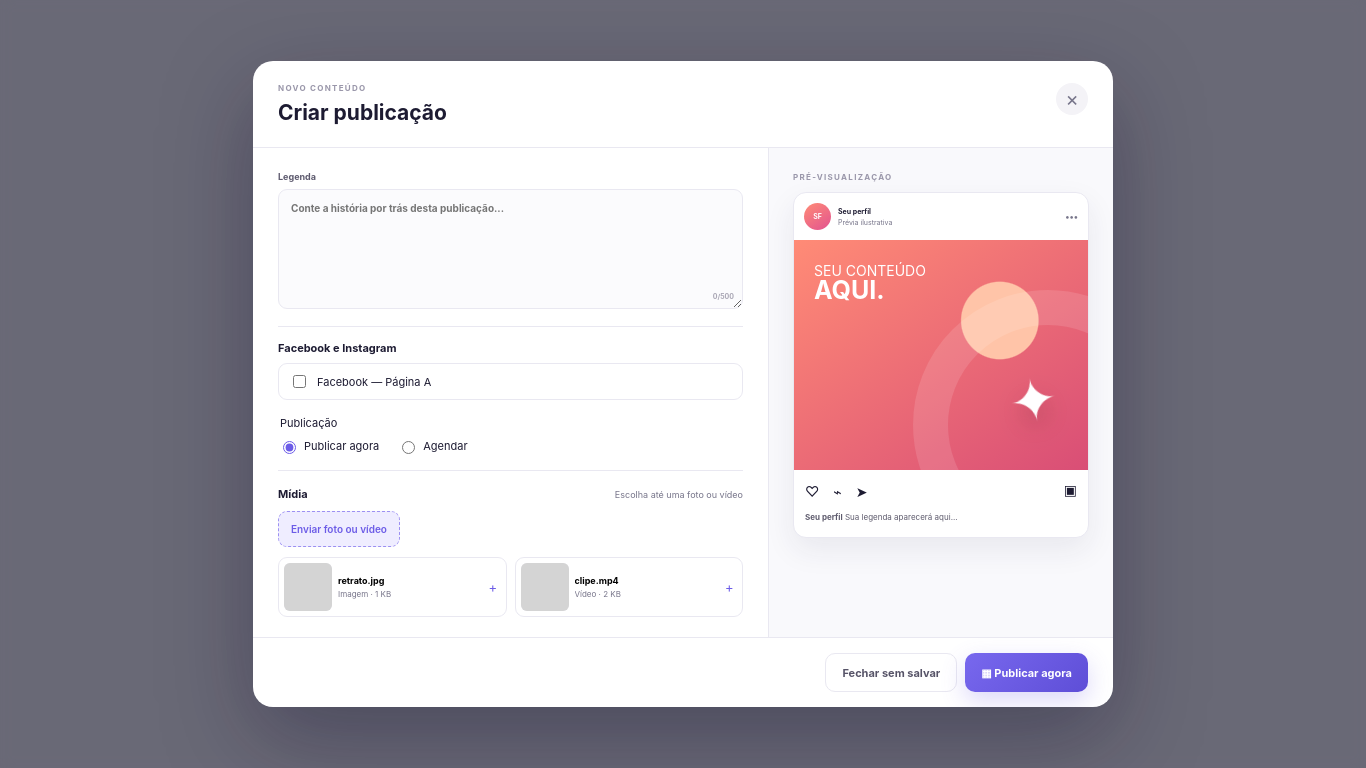
Test case: Composer com mídia › prévia usa mídia real e remover seleção restaura placeholder
Click the button named "selecionar retrato.jpg" at x=392, y=587, box [278,557,506,617]
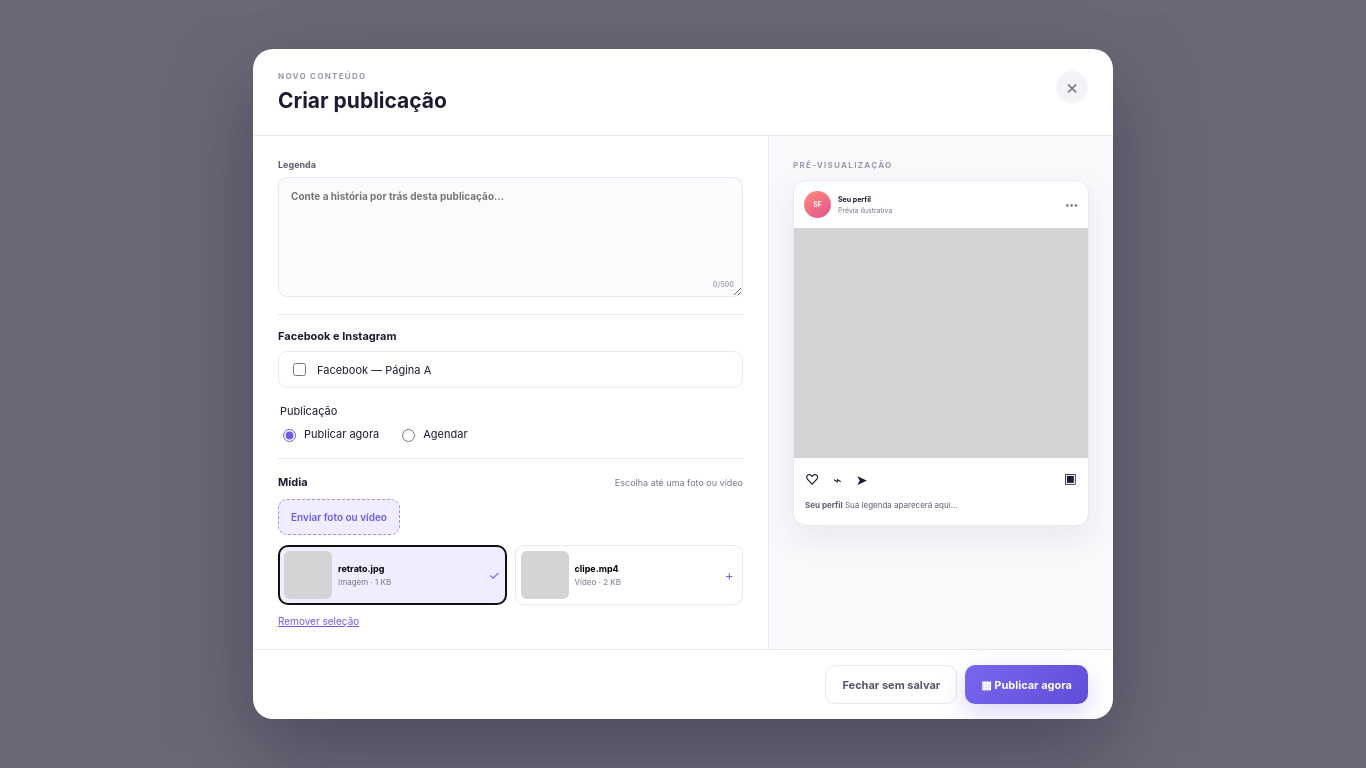
Expected: the button named "selecionar retrato.jpg" is pressed, [278,545,506,605]
Click the button named "selecionar clipe.mp4" at x=629, y=575, box [514,545,743,605]
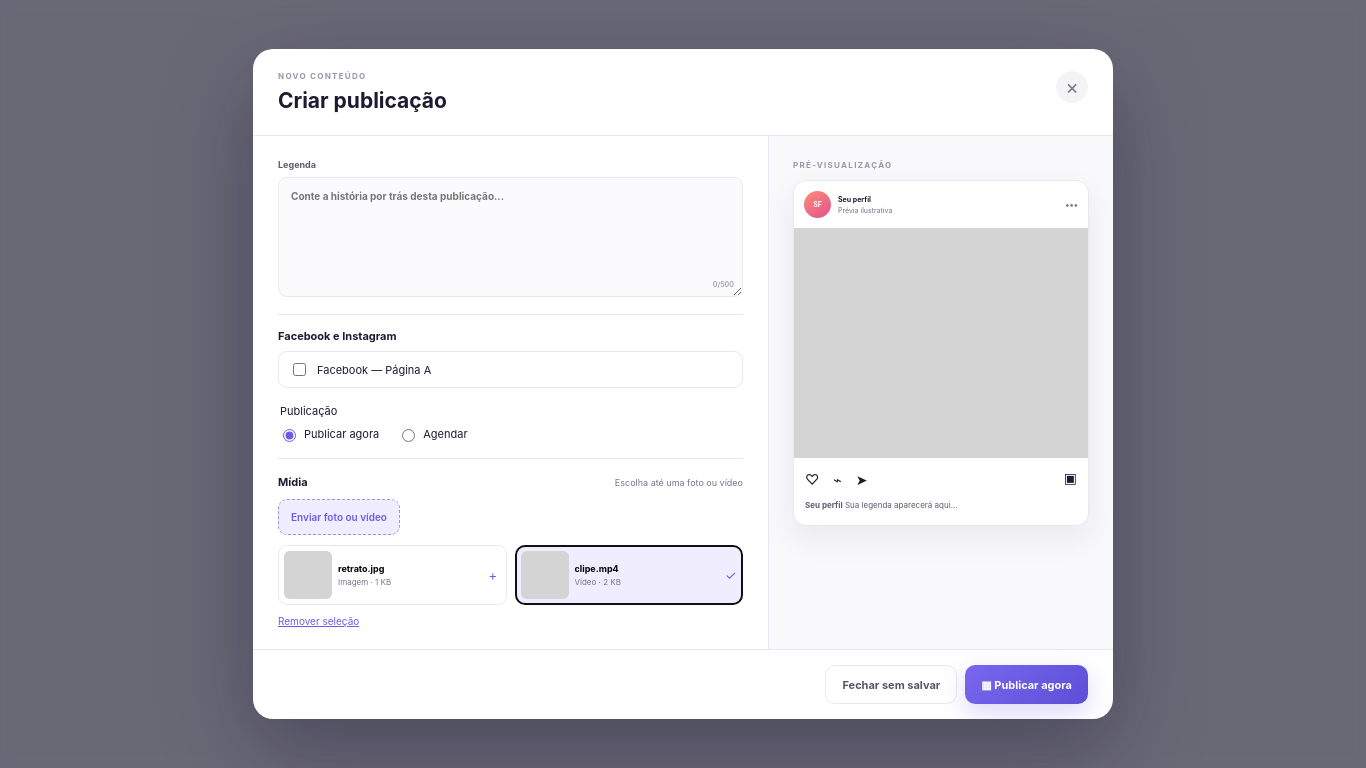
Click the button "Remover seleção" at x=319, y=621, box [278,615,359,627]
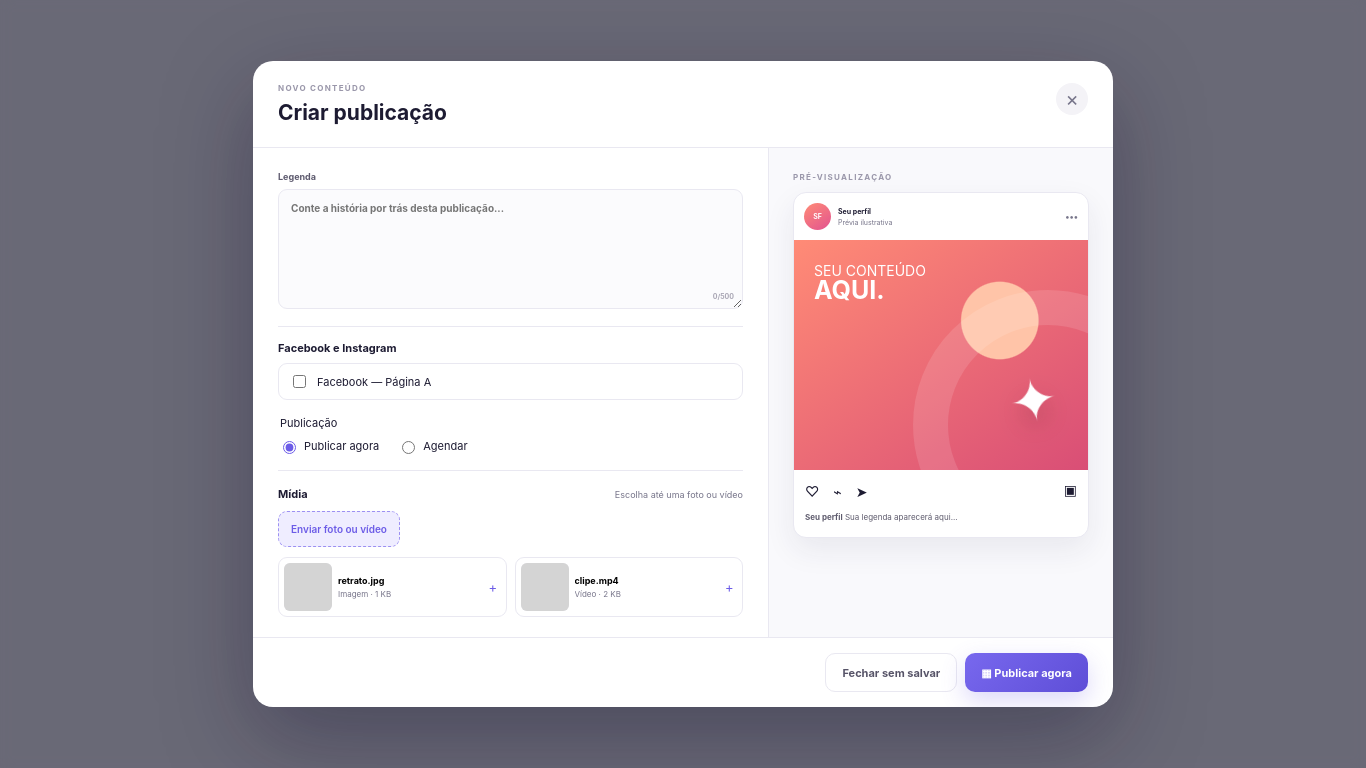
Expected: the element with test id "composer-main-preview" shows "SEU CONTEÚDO", [814,262,926,279]
